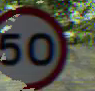Speed limit: (1, 4, 76, 88)
